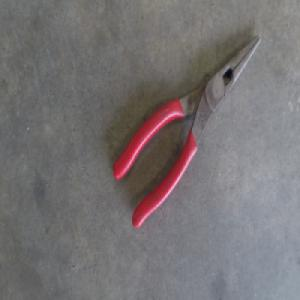Pliers: (113, 33, 261, 225)
